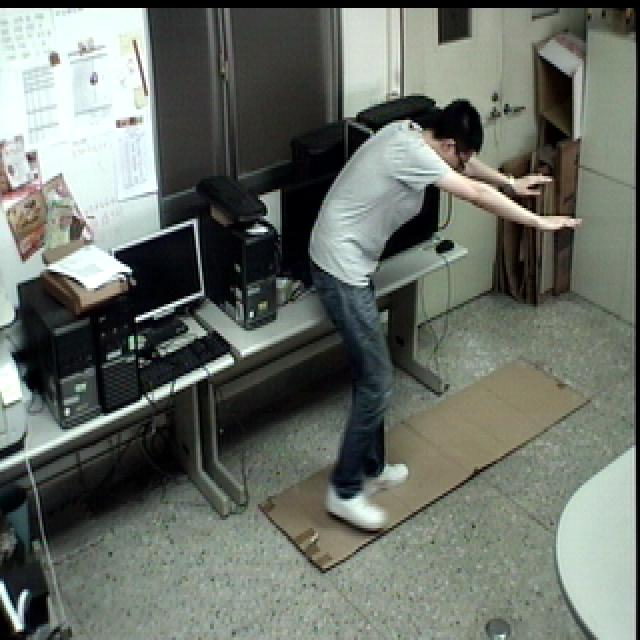bend: (297, 98, 582, 536)
